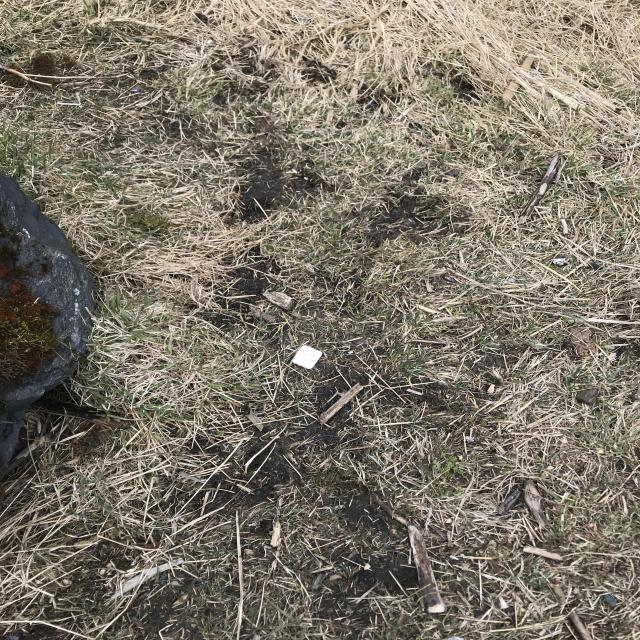litter: (460, 238, 493, 261)
